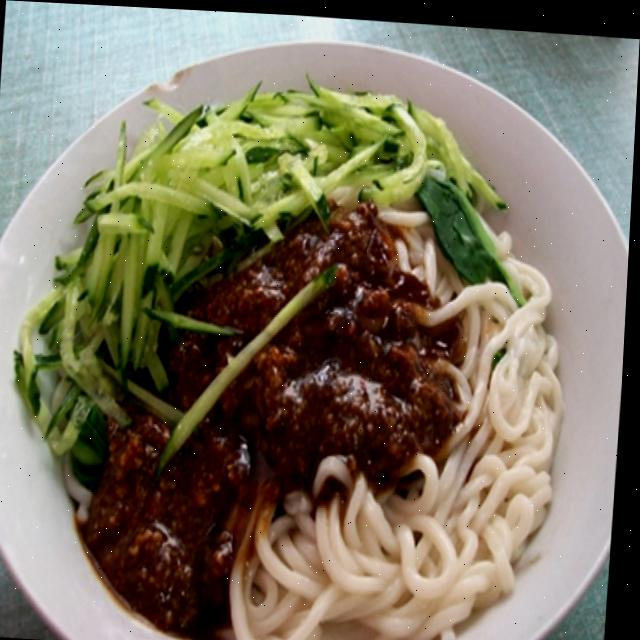面条主食: (0, 37, 620, 640)
